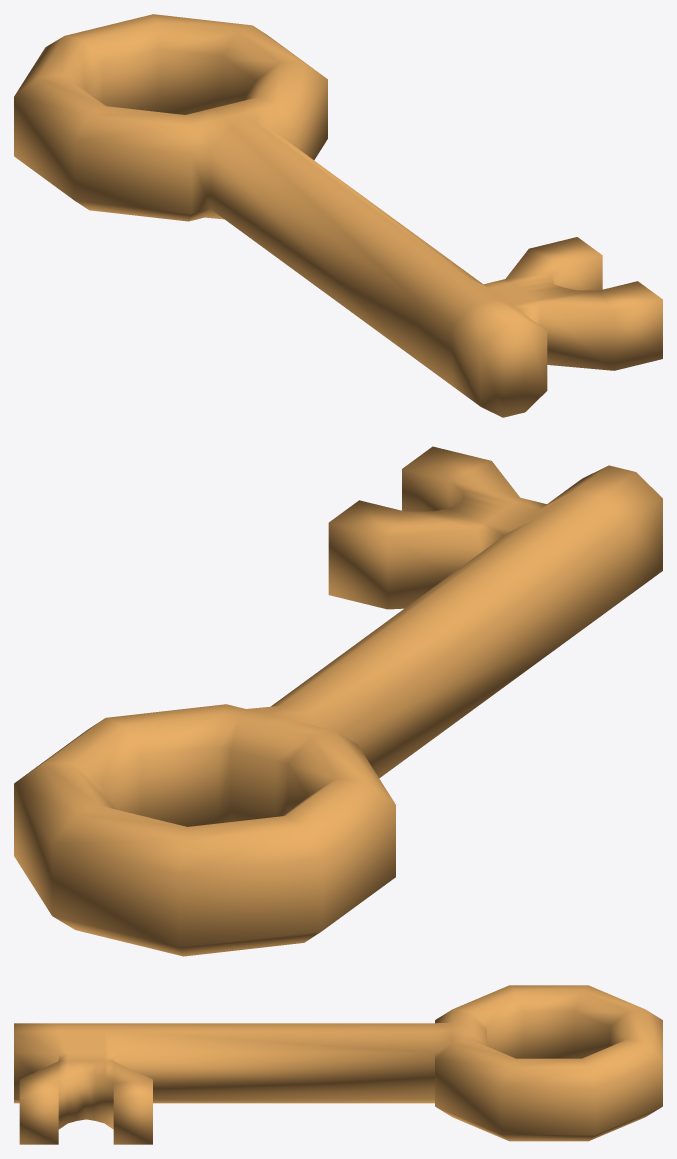
The model's file is Key.glb.
The picture shows the model from 3 angles, top to bottom: view 1: azimuth 30°, elevation 25°; view 2: azimuth 150°, elevation 25°; view 3: azimuth 270°, elevation 25°; orthographic projection. The views are drawn at different scales.
Visible parts, largest first — view 1: Key; view 2: Key; view 3: Key.
Boxes of the visible parts, x1=… form: Key: x1=14, y1=14, x2=662, y2=417; Key: x1=14, y1=446, x2=662, y2=956; Key: x1=14, y1=985, x2=662, y2=1144.
Size of the model in its own units: 0.0636 by 0.0213 by 0.1643.
